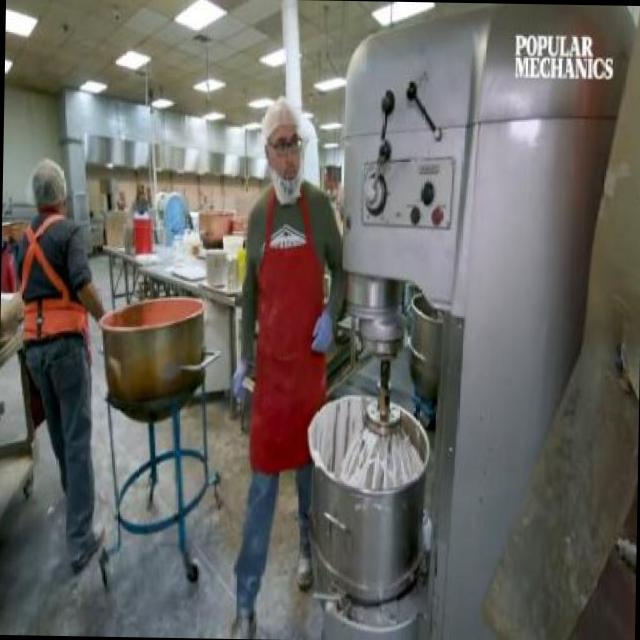hairnet: (24, 160, 68, 203), (262, 94, 301, 134)
